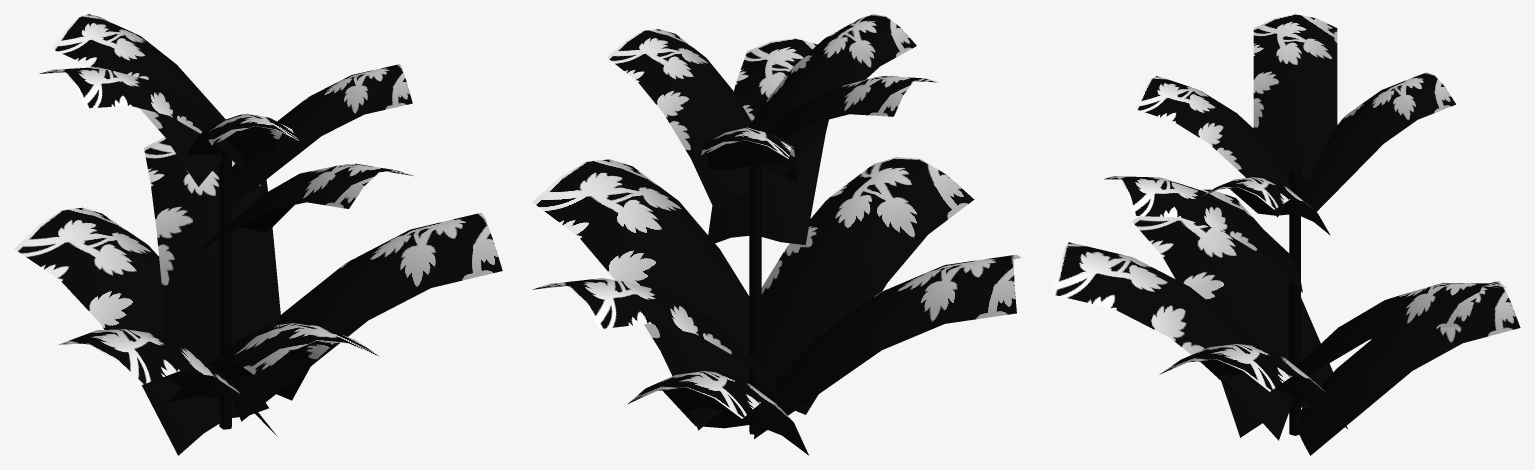
Rendered from SM_Flower_C.glb.
3 renders of one model, left to right at view 1: azimuth 30°, elevation 25°; view 2: azimuth 150°, elevation 25°; view 3: azimuth 270°, elevation 25°, orthographic. The views are drawn at different scales.
Parts seen in each view (by area): view 1: SM_Flower_C_LOD0; view 2: SM_Flower_C_LOD0; view 3: SM_Flower_C_LOD0.
Part boxes in pixels (x1,y1,x2,y2): SM_Flower_C_LOD0: (14,14,502,455); SM_Flower_C_LOD0: (532,14,1021,455); SM_Flower_C_LOD0: (1050,14,1520,455).
Bounding box in the file's own units: 0.5246 × 0.4342 × 0.5107.
1 material, 1 textured.
